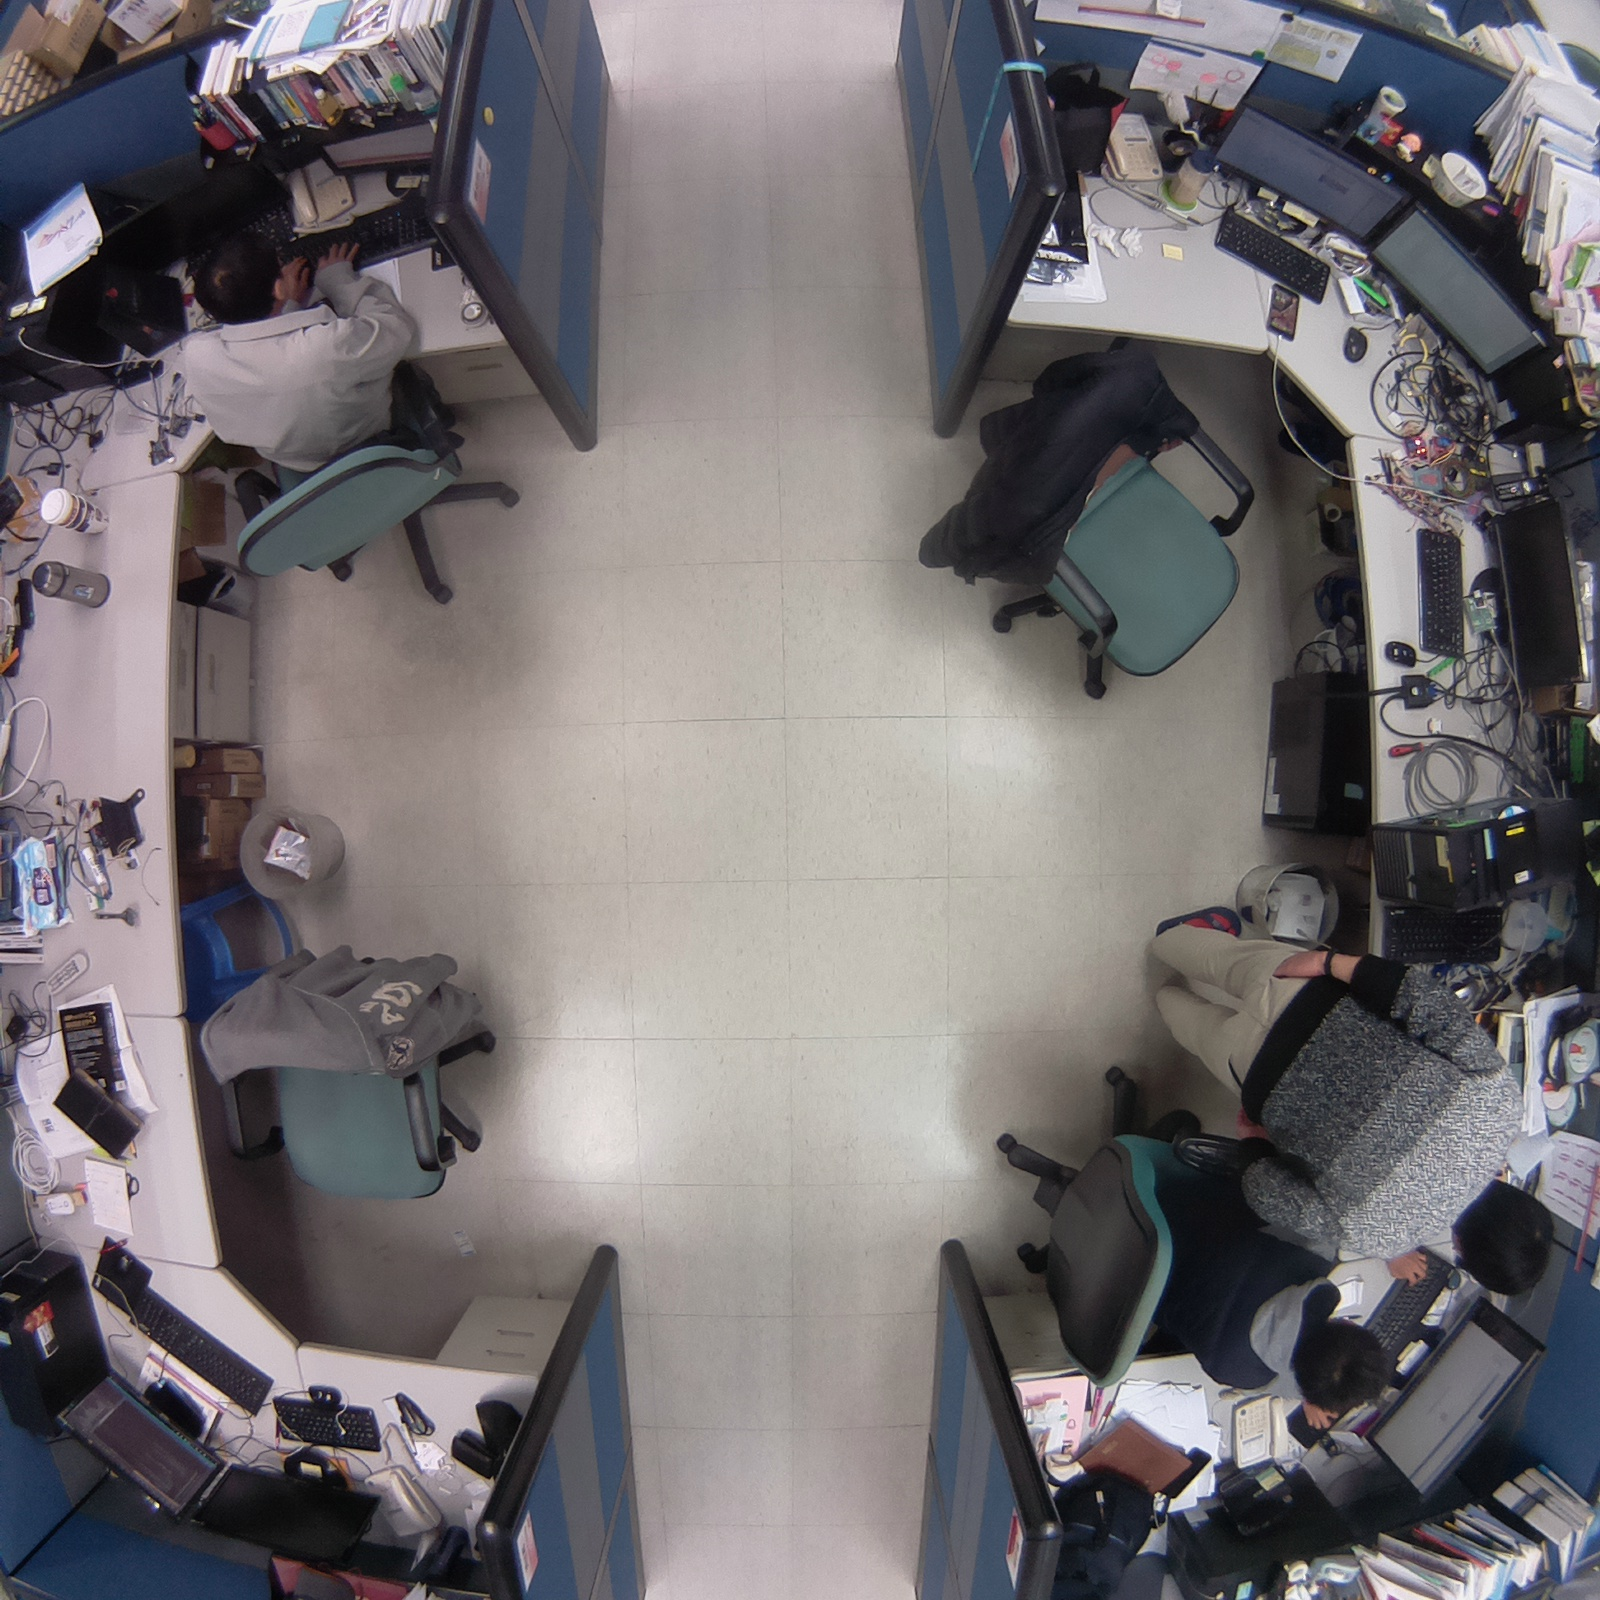chair: (904, 327, 1263, 727), (188, 927, 524, 1222)
head: (1442, 1180, 1561, 1297), (189, 217, 300, 325), (1285, 1312, 1400, 1414)
sitting: (991, 1045, 1410, 1442), (170, 229, 550, 642)
standing: (1125, 886, 1562, 1307)
